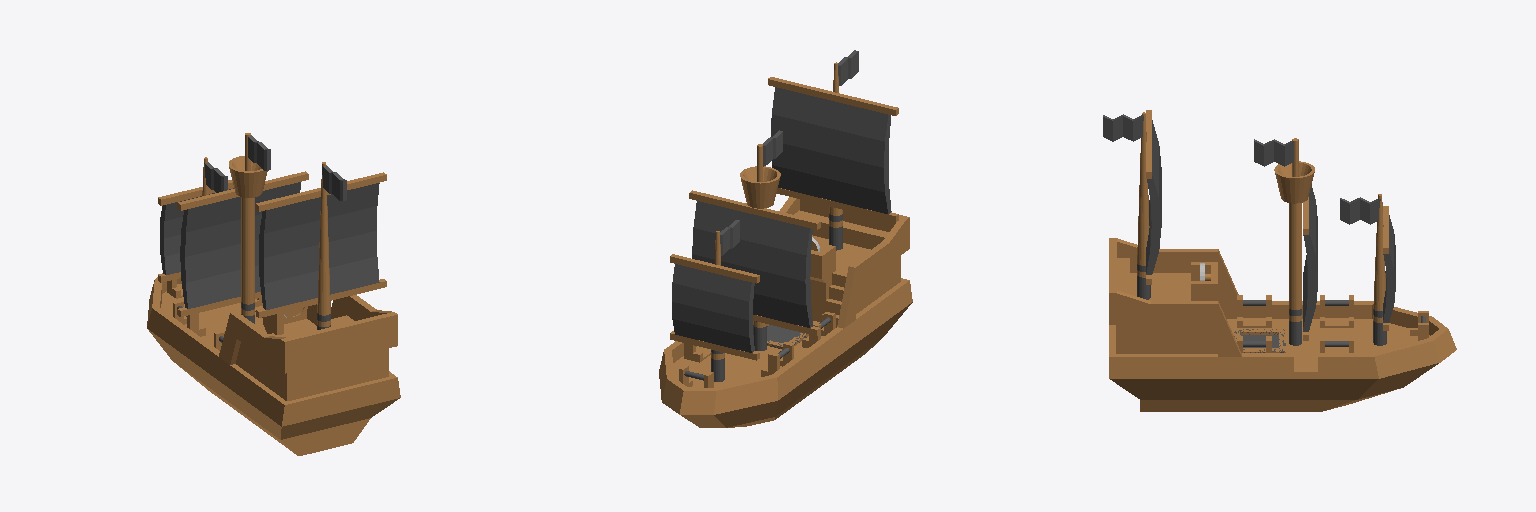
File: boat_002.obj
The picture shows the model from 3 angles: view 1: azimuth 30°, elevation 25°; view 2: azimuth 150°, elevation 25°; view 3: azimuth 270°, elevation 25°; orthographic projection.
Visible parts, largest first — view 1: Group, boat_002, Cannon left; view 2: Group, boat_002, Cannon left; view 3: boat_002, Group, Cannon left, Cannon right.
Part boxes in pixels (x1,y1,x2,y2): Group: (158,133,386,329); boat_002: (147,277,400,455); Cannon left: (173,300,224,350); Group: (670,50,898,381); boat_002: (659,197,912,427); Cannon left: (761,312,835,376); boat_002: (1109,238,1456,411); Group: (1103,110,1395,345); Cannon left: (1237,295,1353,327); Cannon right: (1237,336,1353,352).
Size of the model in its own units: 3.75 by 8.01 by 9.